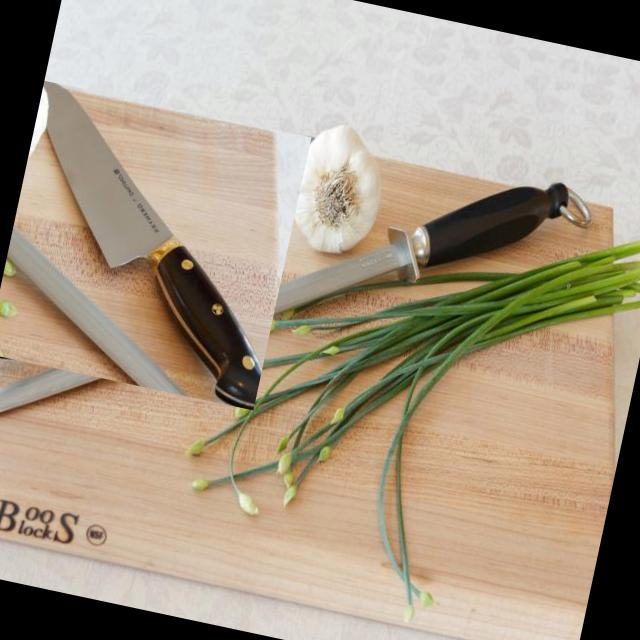Knife: (0, 184, 589, 412), (44, 81, 262, 410)
